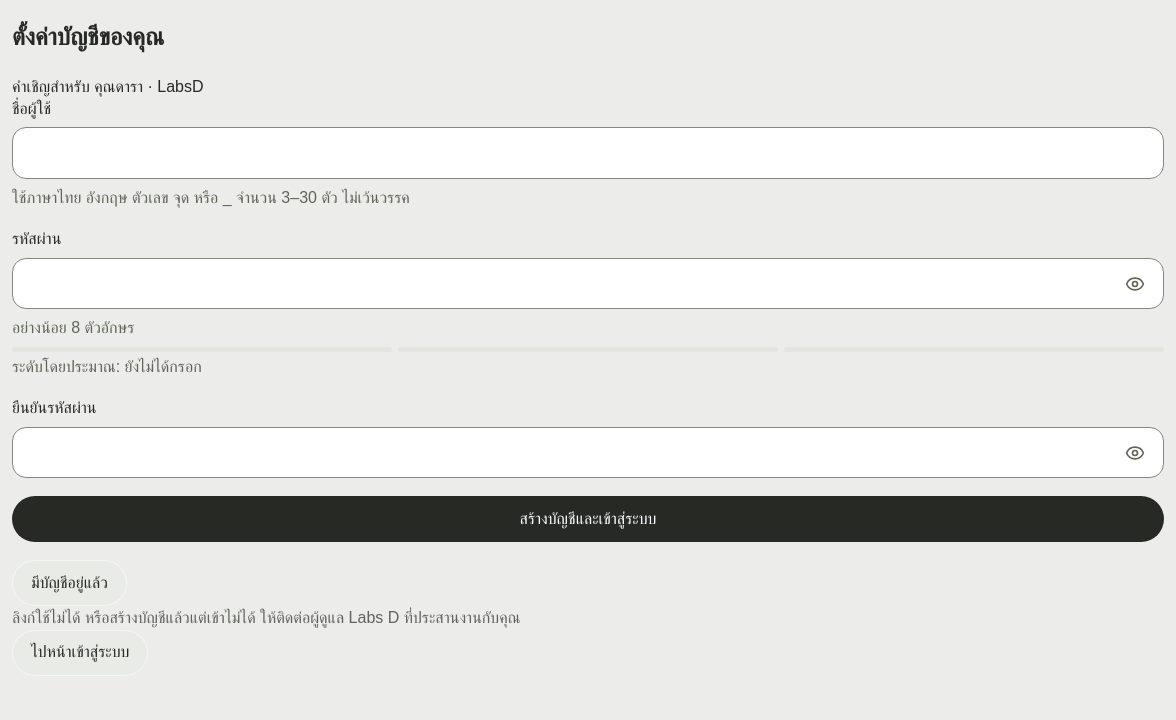
it: invitation credential forms › never resubmits registration after committed creation followed by failed login
Check: the text "คำเชิญสำหรับ คุณดารา · LabsD" is shown, box left=12, top=78, right=204, bottom=95
Type "คุณก้อง" into the field labelled "ชื่อผู้ใช้". click: {"x": 588, "y": 153}
box: left=12, top=127, right=1164, bottom=179
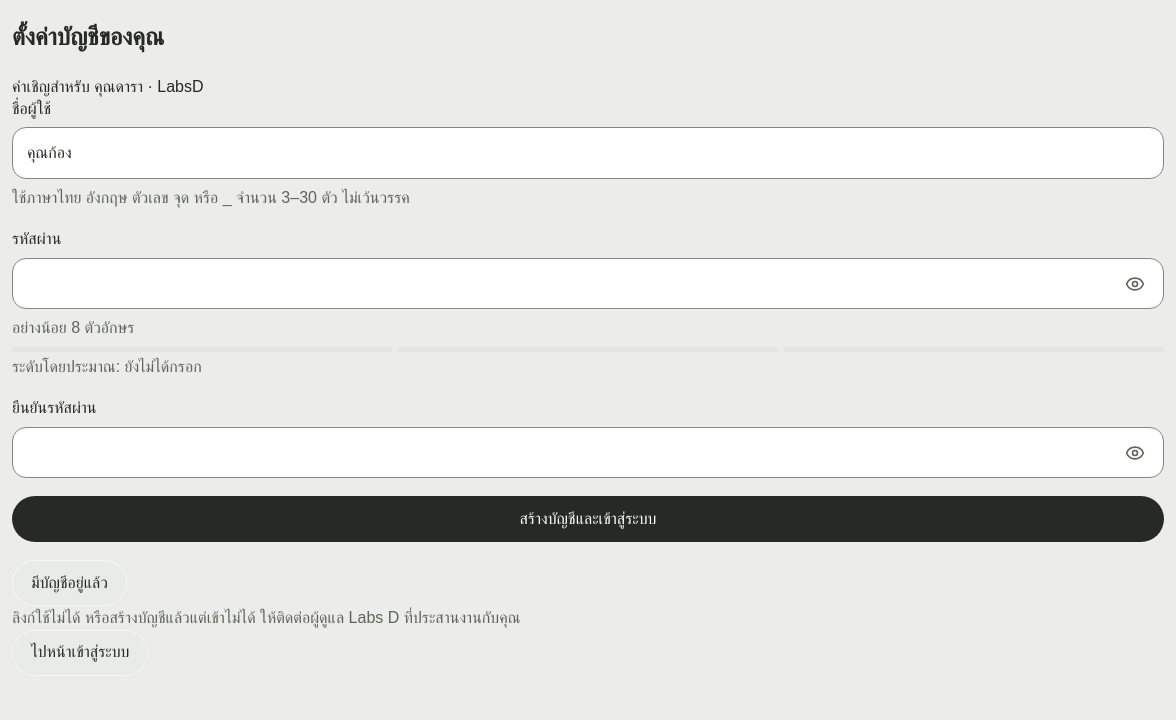
Type "abcdefgh" into the password field labelled "รหัสผ่าน". click: {"x": 588, "y": 284}
box: left=12, top=258, right=1164, bottom=309
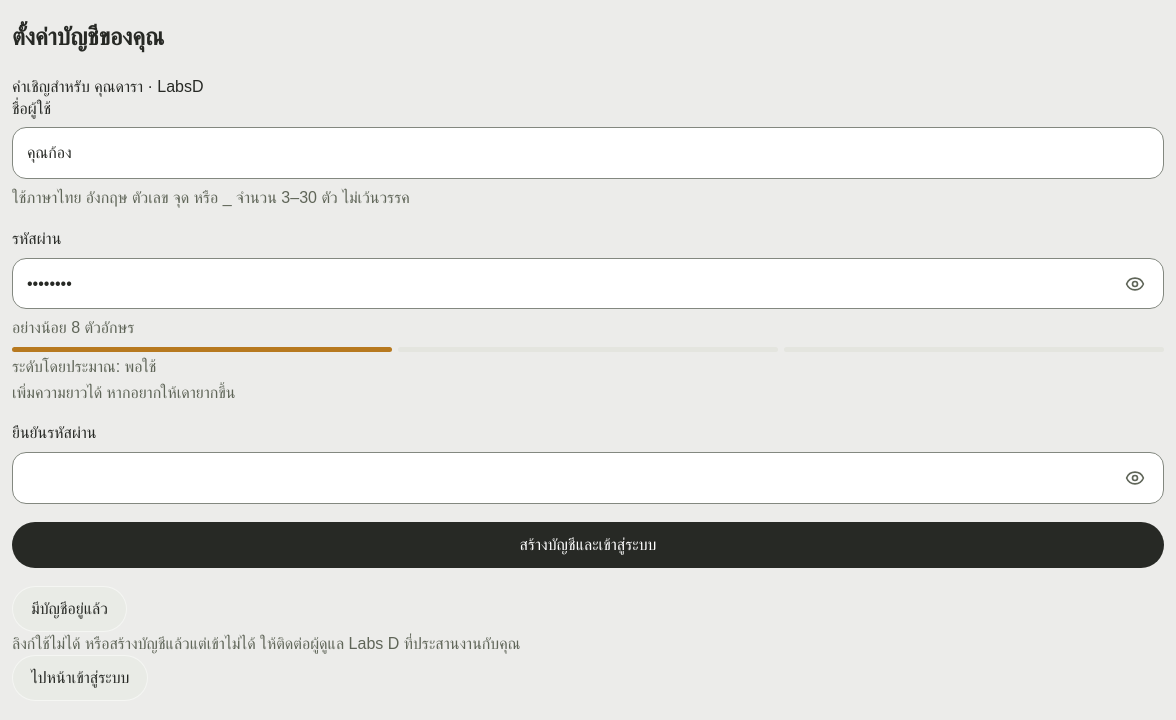
Type "abcdefgh" into the password field labelled "ยืนยันรหัสผ่าน". click: {"x": 588, "y": 478}
box: left=12, top=452, right=1164, bottom=504
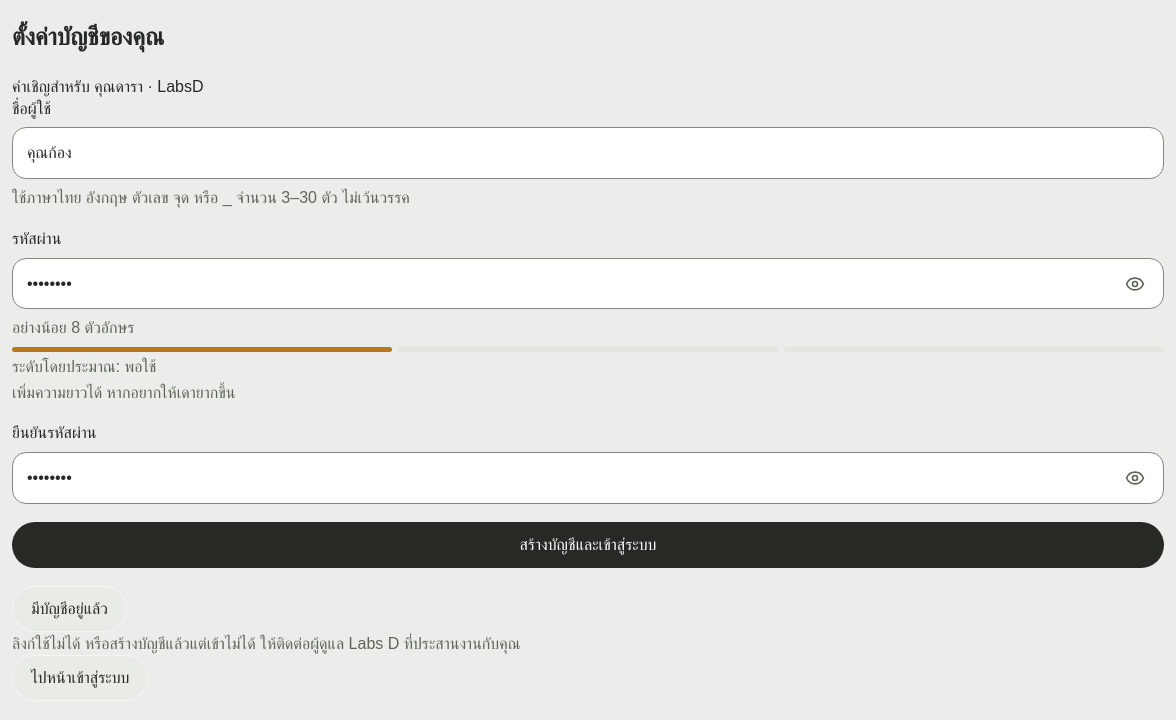
Submit the form named "สร้างบัญชีและเข้าสู่ระบบ"
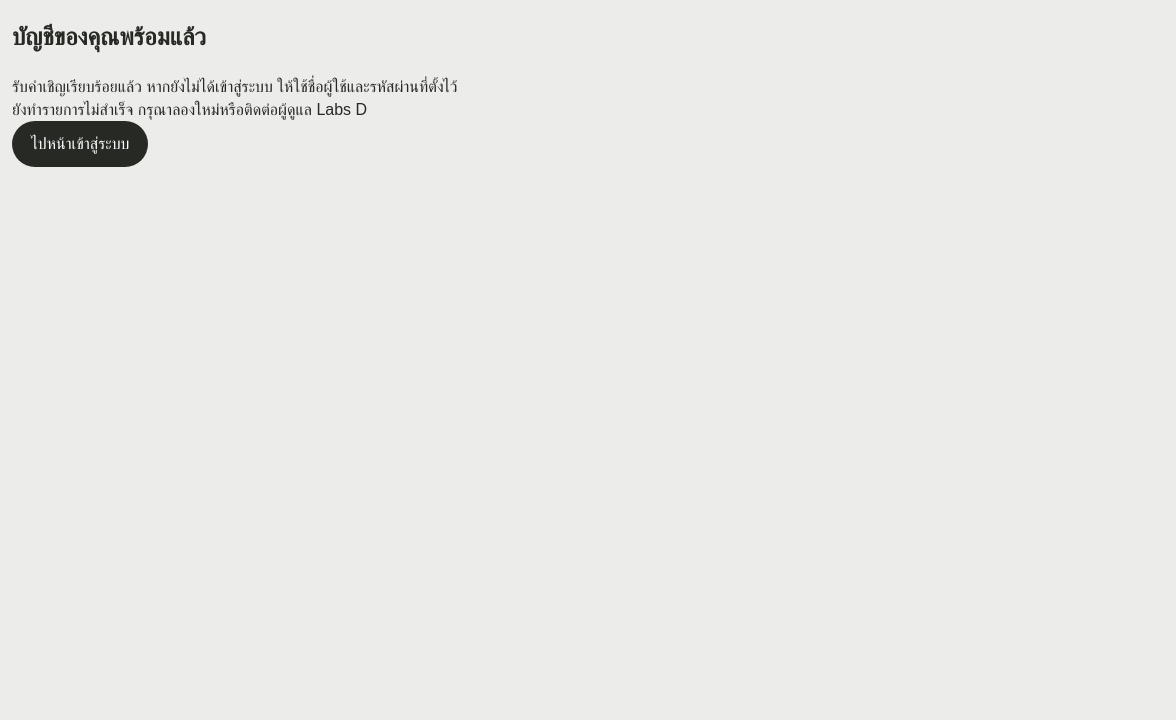
Check: the heading "บัญชีของคุณพร้อมแล้ว" is shown, box left=12, top=23, right=206, bottom=50
Check: the message "ยังทำรายการไม่สำเร็จ กรุณาลองใหม่หรือติดต่อผู้ดูแล Labs D" is shown, box left=12, top=101, right=367, bottom=118
Check: the button "สร้างบัญชีและเข้าสู่ระบบ" is gone
